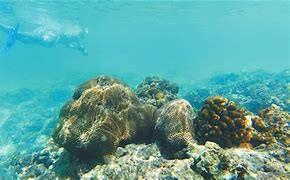bleached_corals: (50, 72, 198, 164), (81, 142, 290, 180), (81, 144, 204, 180), (21, 140, 71, 180)
